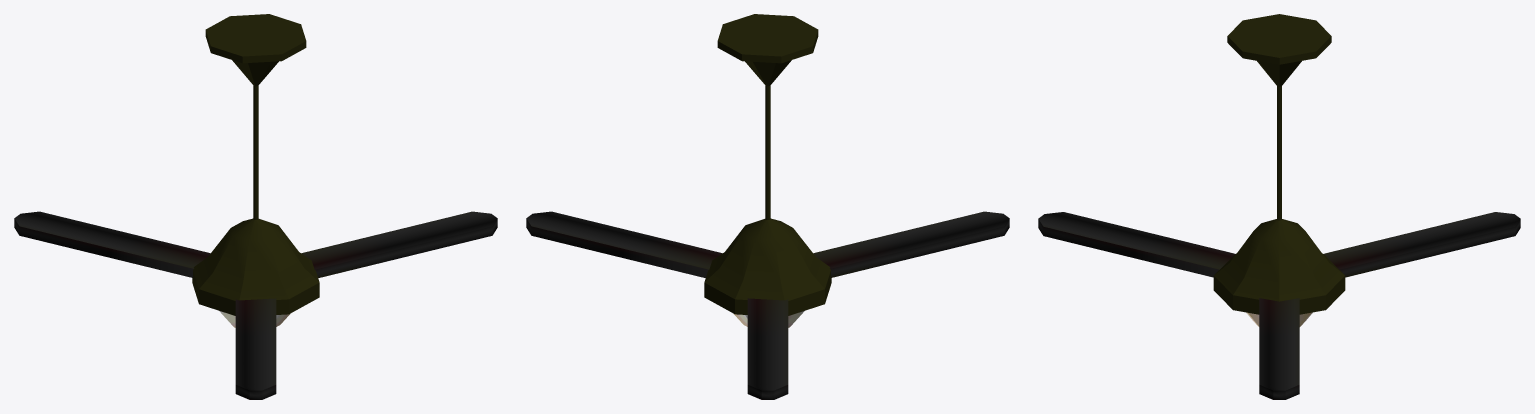
The model's file is Fan.fbx.
3 views of the same model, side by side, from view 1: azimuth 30°, elevation 25°; view 2: azimuth 150°, elevation 25°; view 3: azimuth 270°, elevation 25° (orthographic).
Parts seen in each view (by area): view 1: FanBaldes, Fan; view 2: FanBaldes, Fan; view 3: FanBaldes, Fan.
Part boxes in pixels (x1,y1,x2,y2): FanBaldes: [14, 211, 497, 399]; Fan: [192, 14, 319, 327]; FanBaldes: [526, 211, 1009, 399]; Fan: [704, 14, 831, 327]; FanBaldes: [1038, 212, 1520, 399]; Fan: [1213, 14, 1345, 326].
Size of the model in its own units: 286 by 213 by 326.
